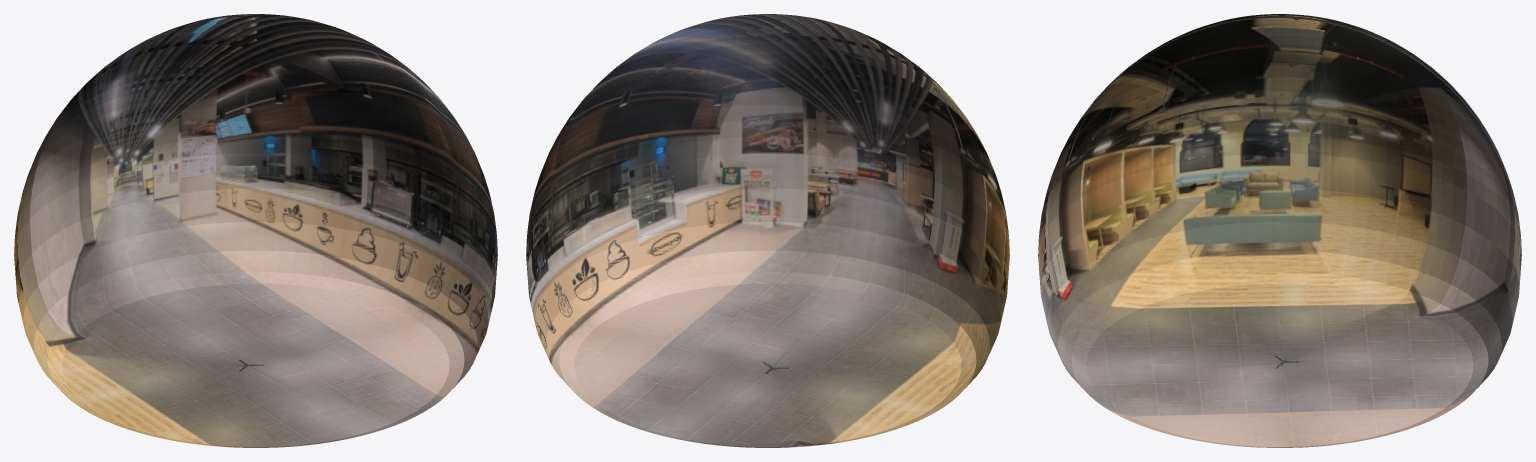
The model's file is mens-hall-084.glb.
3 views of the same model, side by side, from view 1: azimuth 30°, elevation 25°; view 2: azimuth 150°, elevation 25°; view 3: azimuth 270°, elevation 25° (orthographic).
Size of the model in its own units: 2 by 1.5 by 2.
1 material, 1 textured.
